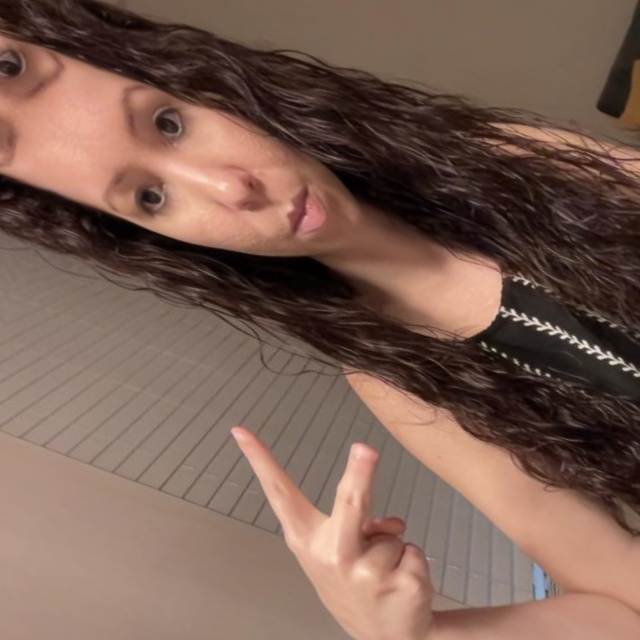Scissors: (83, 623, 411, 640)
